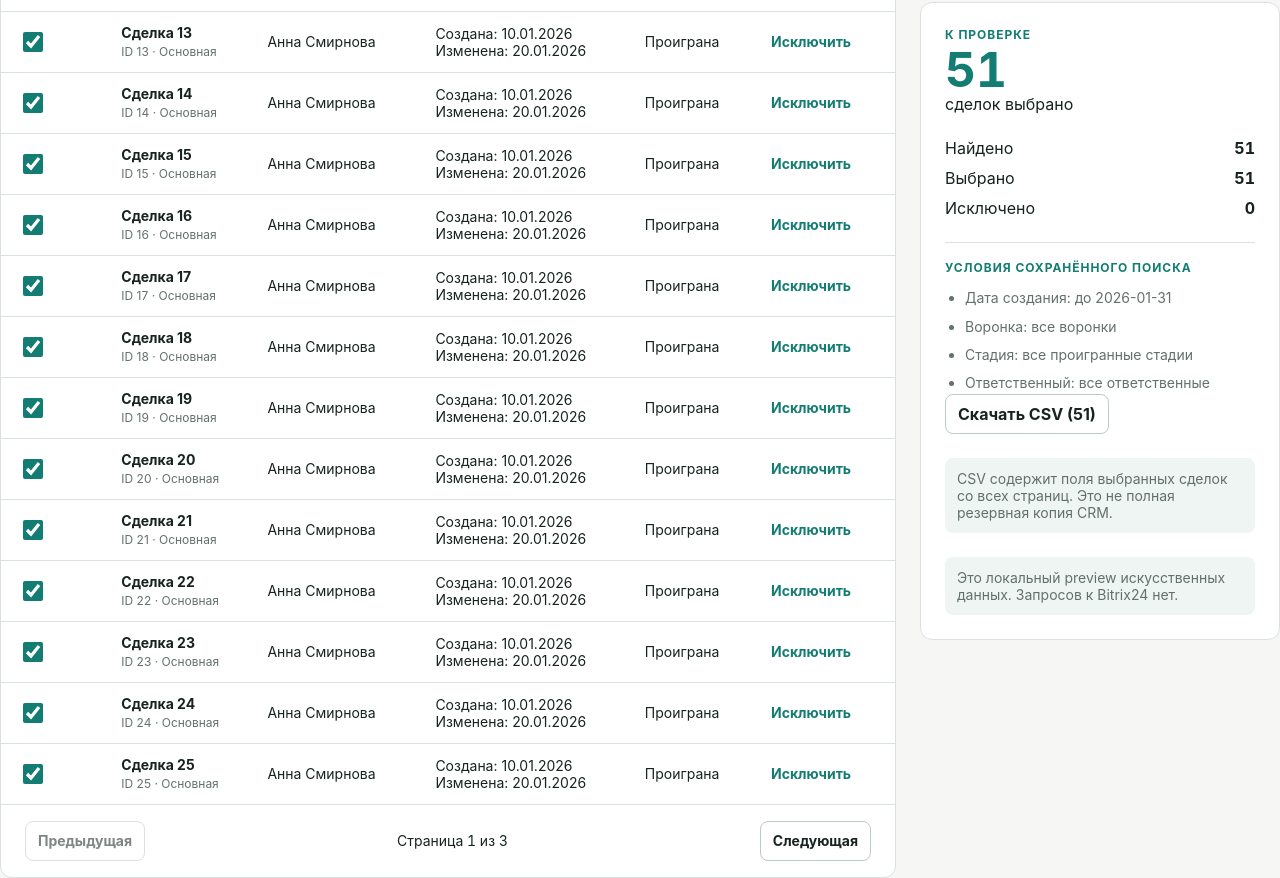
Test case: DealPreview › changes among three pages while preserving whole-result counters
(page scrolled)
Click the button with aria-label "Следующая страница".
click(815, 841)  # box x1=760 y1=821 x2=871 y2=861
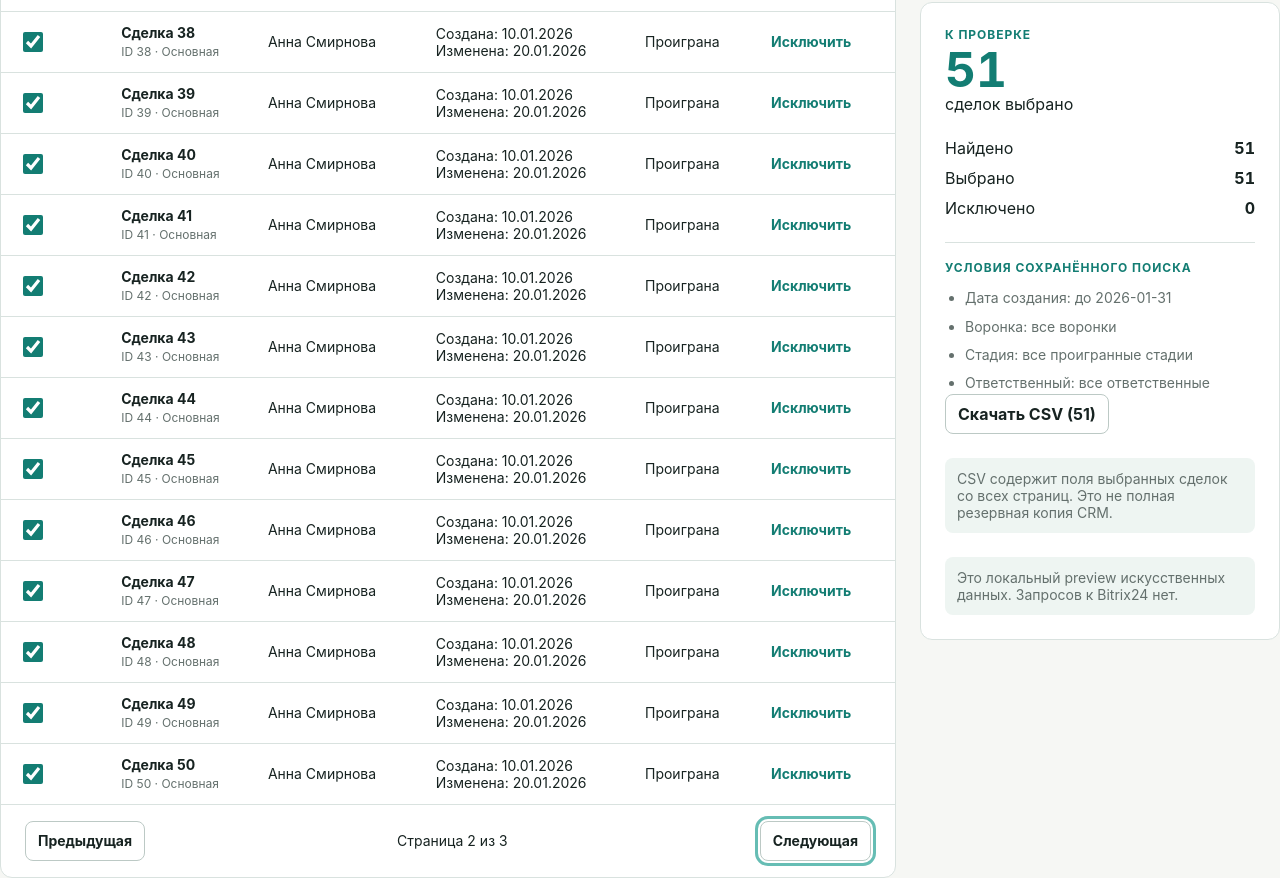
Click the button with aria-label "Следующая страница".
click(815, 841)  # box x1=760 y1=821 x2=871 y2=861
(page scrolled)
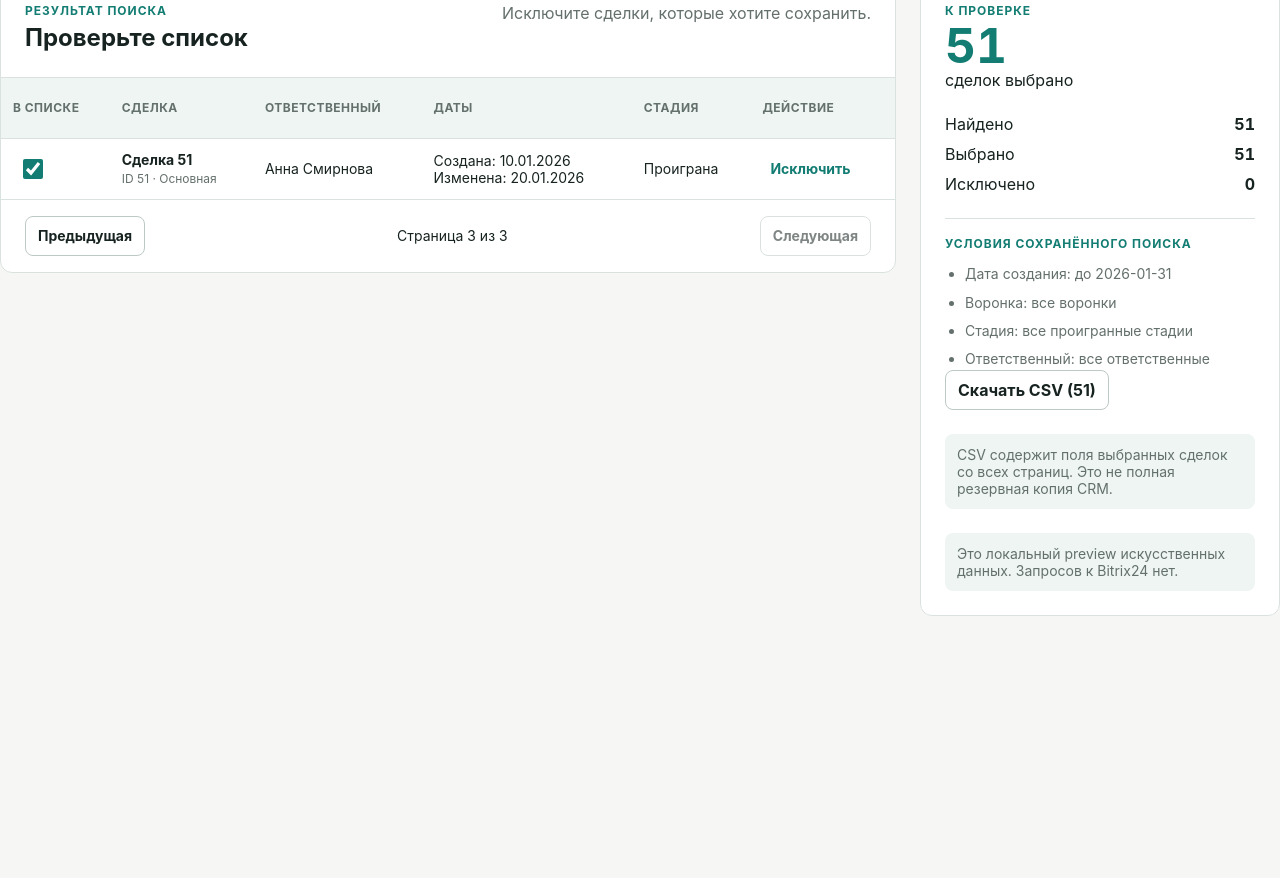
Expected: the element "Найдено 51" is shown, x1=945 y1=114 x2=1255 y2=134
Result: the text "Страница 3 из 3" is shown at x1=397 y1=227 x2=508 y2=244
Result: the text "Сделка 51" is shown at x1=122 y1=151 x2=192 y2=168
